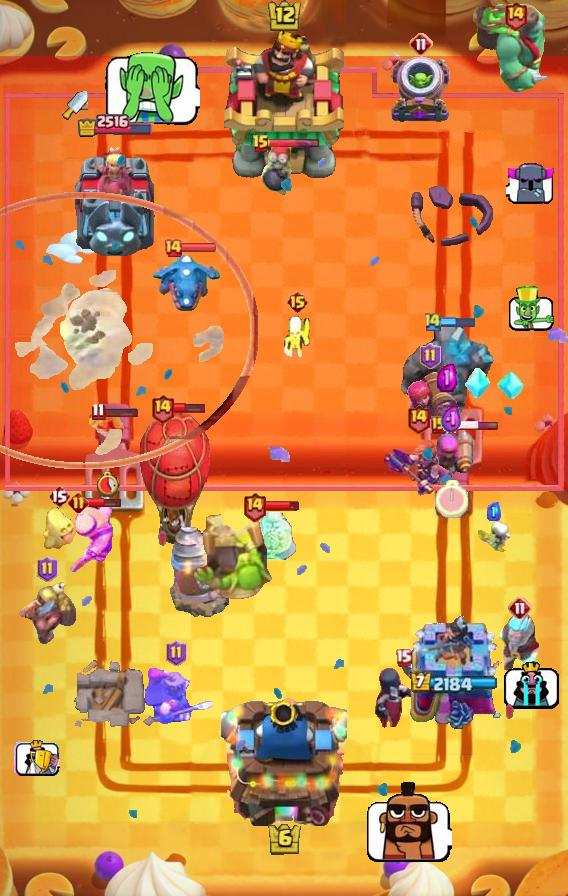arrows: (70, 500, 114, 571)
bandit: (18, 580, 76, 648)
bar: (70, 142, 158, 256)
bat-evolution: (42, 506, 76, 550)
cannon-cart: (139, 408, 211, 548)
cannoneer-tower: (398, 324, 496, 426)
electro-spirit: (442, 404, 463, 436), (437, 364, 457, 392), (487, 503, 501, 522)
elixir: (436, 480, 469, 518), (96, 471, 121, 498)
elixir-collector: (244, 508, 300, 568)
elixir-golem-big: (135, 665, 217, 729)
emote: (445, 420, 499, 431), (268, 138, 320, 149), (440, 315, 476, 329), (103, 406, 139, 418), (264, 500, 300, 512), (171, 402, 205, 414), (181, 243, 217, 254), (86, 497, 122, 508)
goblin-cage: (389, 55, 453, 125)
graveyard: (150, 252, 222, 314)
heal-spirit: (282, 315, 312, 359), (476, 521, 512, 553)
ice-golem: (258, 141, 294, 197)
king-tower: (224, 29, 344, 181), (221, 690, 347, 826)
lava-hound: (471, 0, 559, 94)
magic-archer: (169, 526, 229, 618)
mega-minion: (402, 372, 458, 434)
mortar: (496, 610, 544, 676)
pad_2: (497, 368, 525, 402), (464, 368, 490, 400)
queen-tower: (406, 614, 503, 730)
rascal-boy: (373, 656, 433, 730)
royal-ghost: (0, 191, 258, 470)
selected: (409, 672, 497, 696), (75, 112, 152, 138)
skeleton: (104, 49, 200, 126), (364, 780, 452, 864), (504, 658, 561, 710), (508, 287, 557, 333), (506, 162, 556, 206), (12, 739, 59, 777)
tesla-evolution: (382, 439, 454, 497)
text: (504, 0, 529, 31), (149, 392, 174, 423), (405, 403, 430, 434), (241, 490, 266, 521), (409, 32, 433, 56), (508, 596, 532, 620), (37, 556, 59, 582), (287, 290, 310, 314), (419, 343, 440, 369), (165, 640, 186, 666), (48, 484, 70, 508), (67, 491, 89, 513), (423, 311, 443, 333), (163, 238, 183, 258), (252, 134, 270, 154), (396, 649, 413, 667), (431, 416, 447, 434), (91, 402, 105, 421)
tombstone: (428, 429, 474, 479)
x-bow: (191, 507, 277, 603)
zap: (89, 409, 125, 449)
